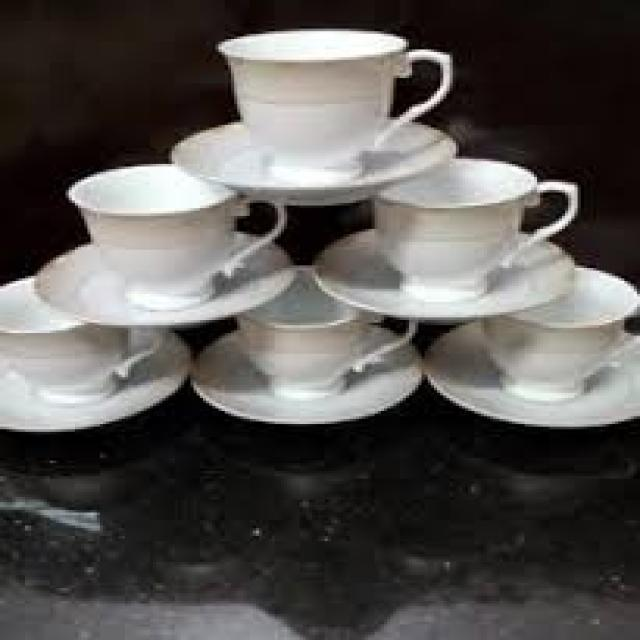taza: (225, 31, 460, 170), (70, 170, 282, 303), (0, 279, 172, 423), (389, 170, 580, 295), (483, 273, 640, 415), (237, 300, 417, 414)
